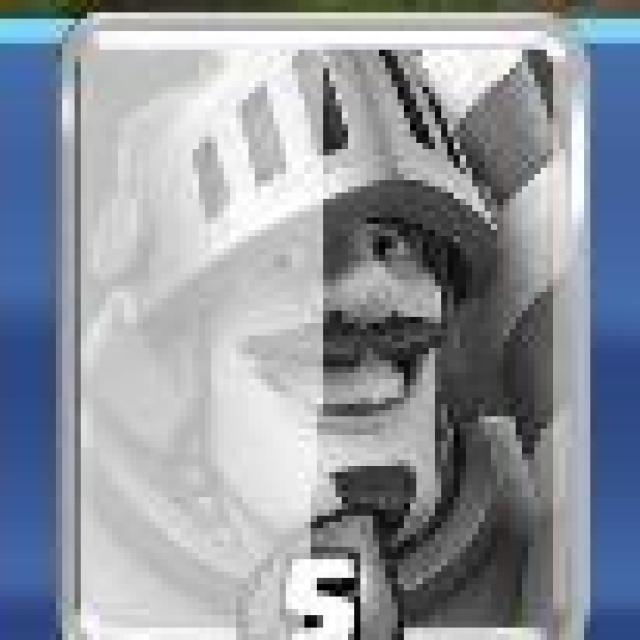Prince: (55, 10, 587, 640)
